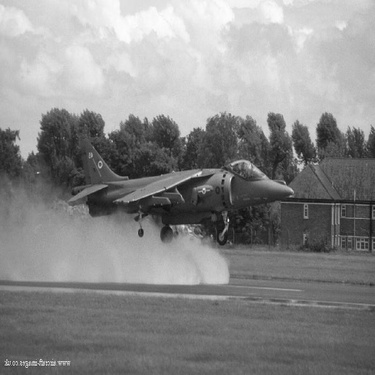airplane: (49, 132, 303, 244)
